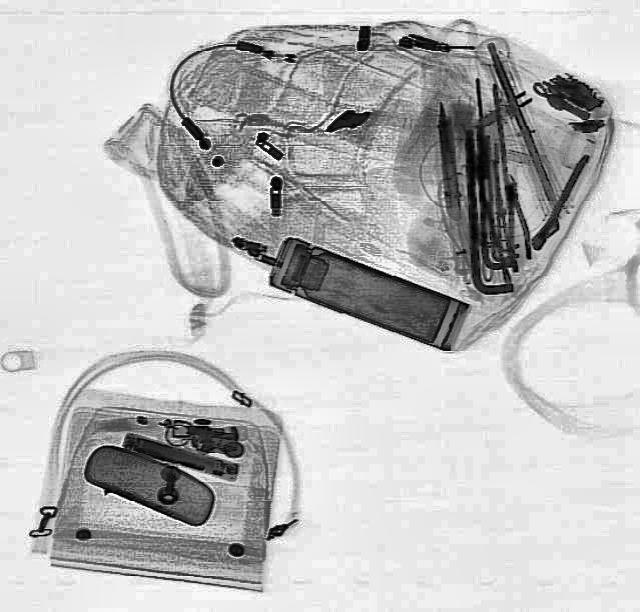Pliers: (494, 170, 534, 272)
Wrench: (521, 150, 595, 252)
